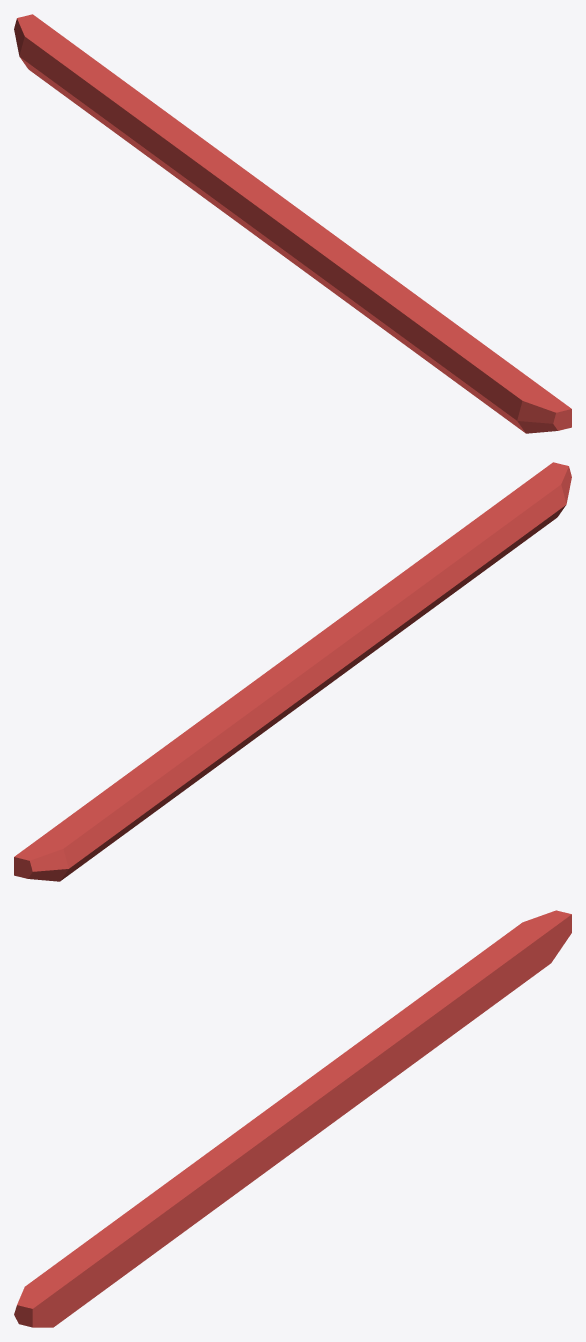
Rendered from skirt_sport.glb.
3 renders of one model, top to bottom at view 1: azimuth 30°, elevation 25°; view 2: azimuth 150°, elevation 25°; view 3: azimuth 330°, elevation 25°, orthographic.
Visible parts, largest first — view 1: skirt_sport__mesh; view 2: skirt_sport__mesh; view 3: skirt_sport__mesh.
Part boxes in pixels (box(x1,y1,x2,y2)): skirt_sport__mesh: box(14, 14, 571, 433); skirt_sport__mesh: box(14, 462, 571, 881); skirt_sport__mesh: box(14, 910, 571, 1327).
Bounding box in the file's own units: 0.095 × 0.09 × 2.6.
